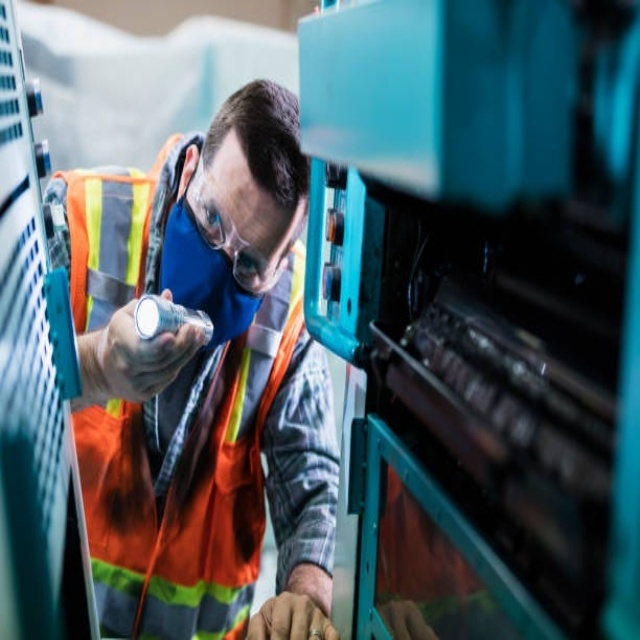Gafas: (188, 158, 299, 294)
Mascara: (159, 185, 267, 346)
Sin_guantes: (92, 287, 211, 407), (248, 585, 340, 638)
